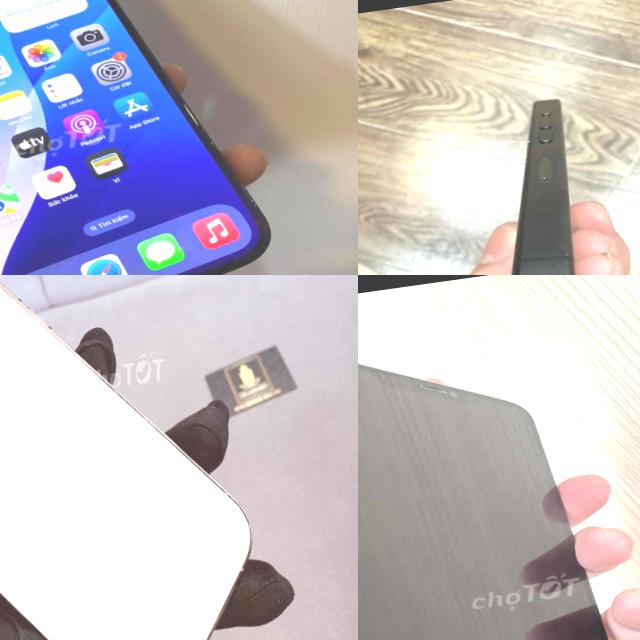gen_14: (0, 275, 276, 640)
gen_15: (0, 0, 289, 275), (466, 89, 625, 275)
scratch: (358, 304, 640, 640), (563, 250, 570, 256), (527, 138, 532, 144)
screen_defect: (358, 469, 372, 530)
